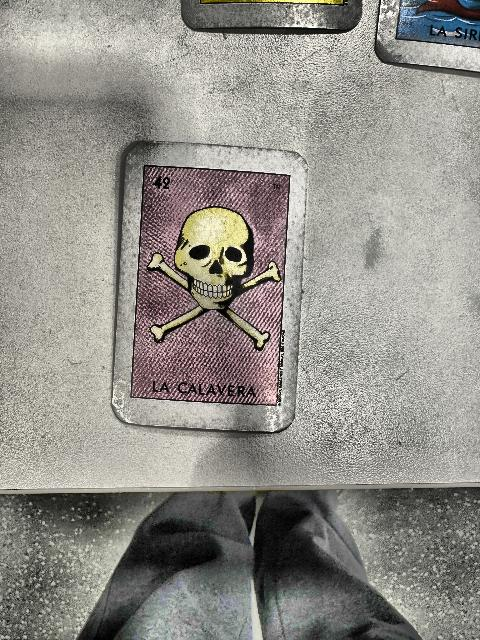La Calavera: (130, 167, 289, 409)
